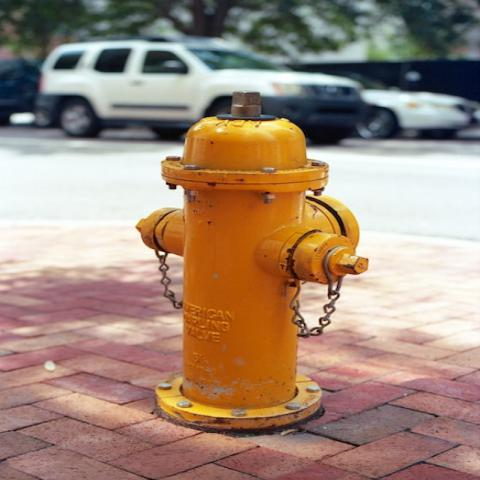car: (40, 35, 369, 146), (352, 73, 466, 139)
truck: (36, 37, 368, 146)
